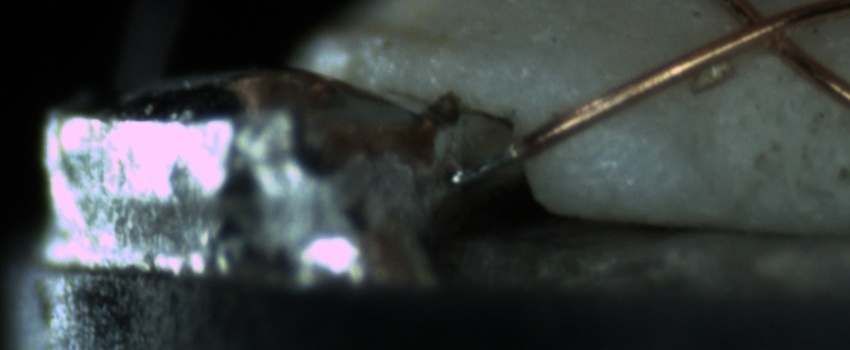CL: (714, 0, 810, 63)
TS: (443, 140, 520, 190)
